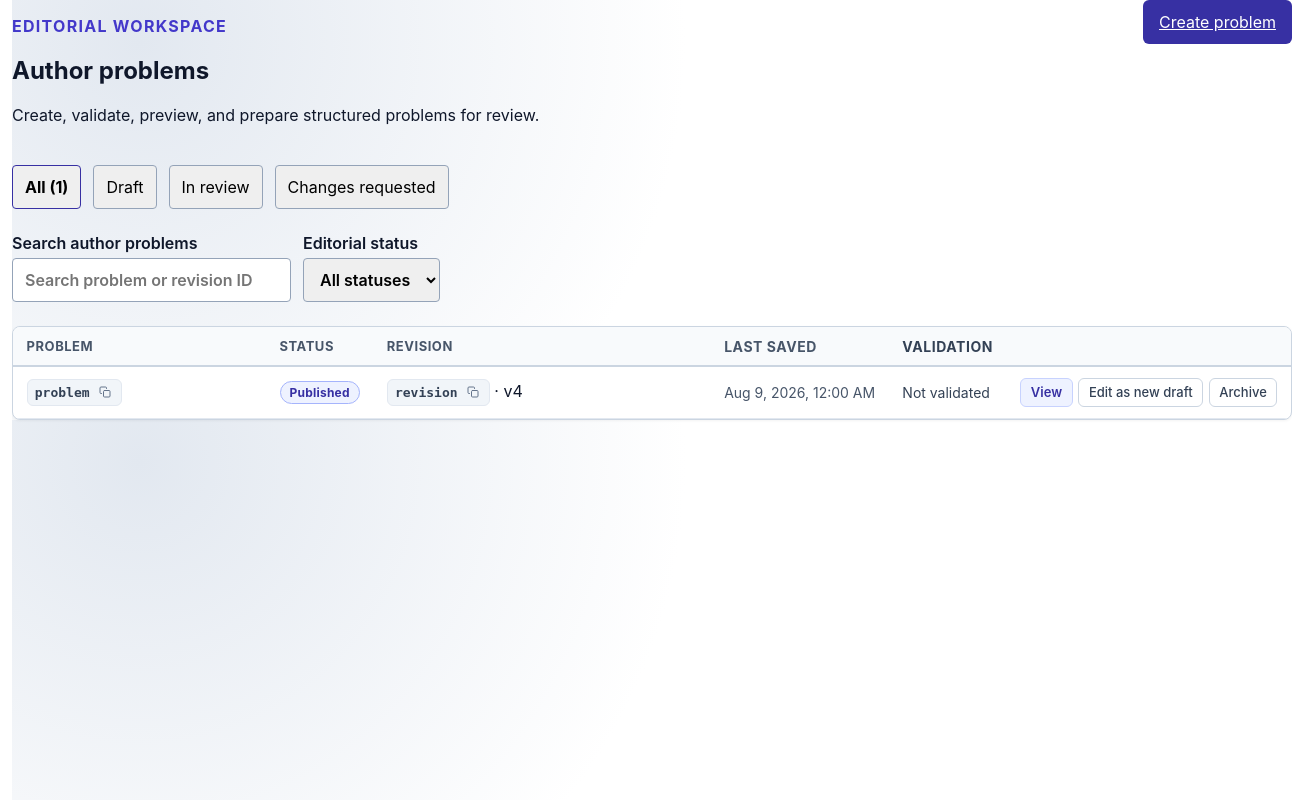
IOAI Studio author problem list › displays specific server error message when startRevision fails with ApiError
This screenshot has width=1292, height=800.
Step 1. Click the button "Edit as new draft" → {"x": 1141, "y": 392}, box [1078, 378, 1203, 407]
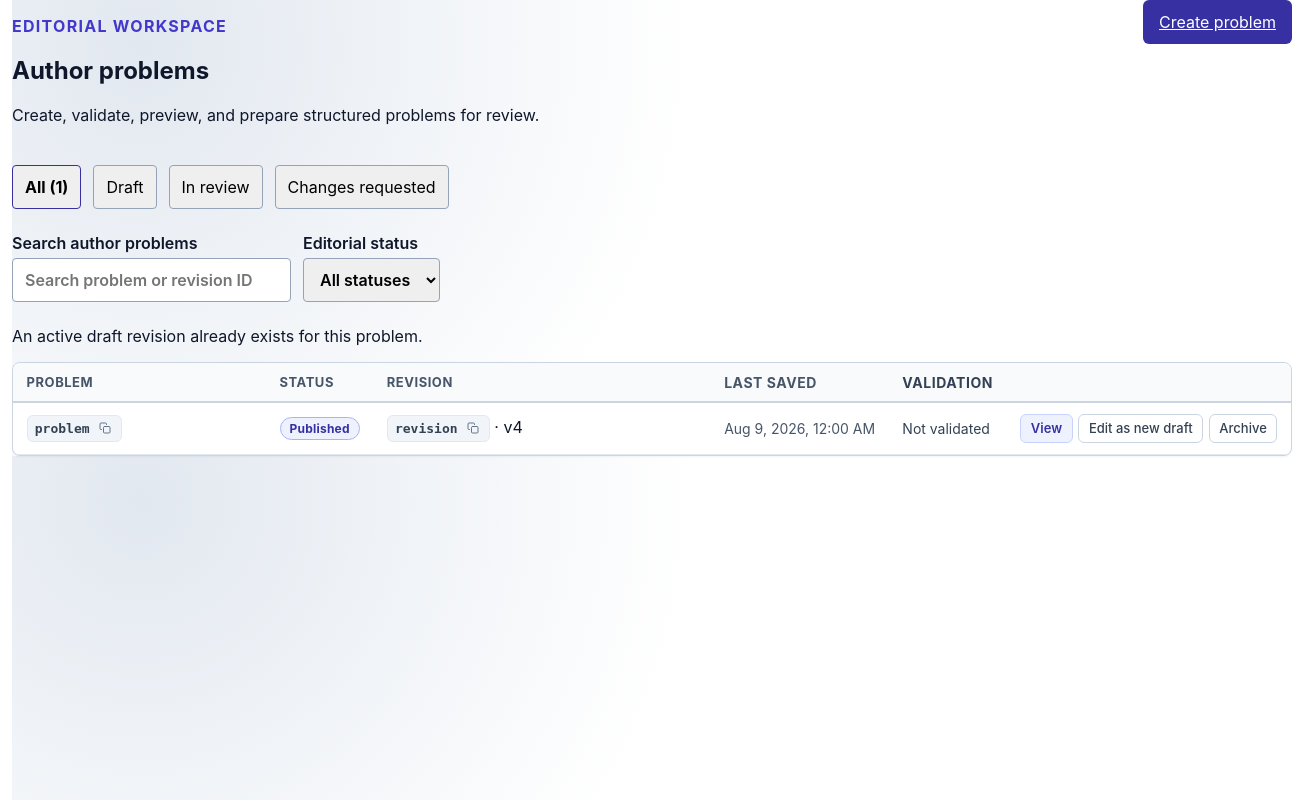
Now the message reads "An active draft revision already exists for this problem.", box [12, 326, 422, 346]
